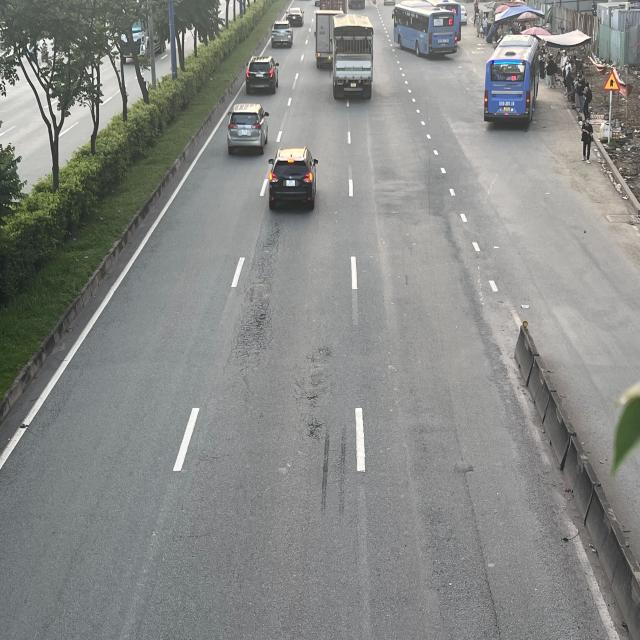car: (266, 146, 318, 210), (227, 103, 269, 155), (246, 54, 282, 95), (270, 21, 295, 49), (284, 5, 304, 26)
coach: (485, 37, 540, 126), (392, 0, 462, 56)
truck: (333, 16, 375, 100), (317, 5, 348, 68)
